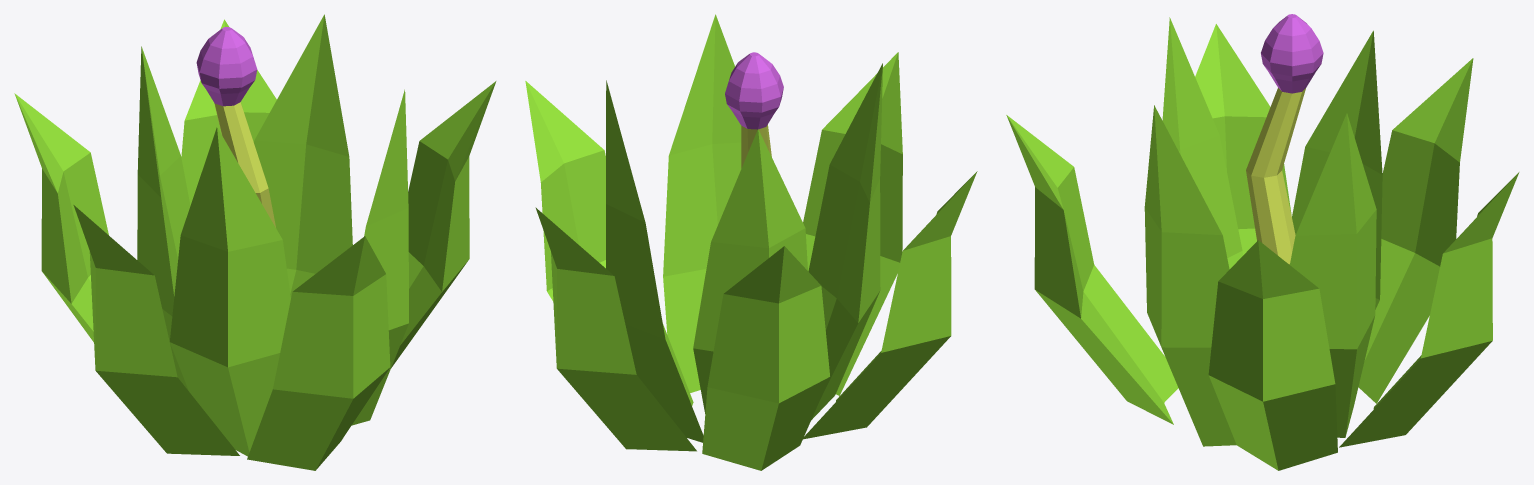
Rendered from plant_02.fbx.
3 views of the same model, side by side, from view 1: azimuth 30°, elevation 25°; view 2: azimuth 150°, elevation 25°; view 3: azimuth 270°, elevation 25° (orthographic). The views are drawn at different scales.
Parts seen in each view (by area): view 1: Sphère.014; view 2: Sphère.014; view 3: Sphère.014.
Part boxes in pixels (x1,y1,x2,y2): Sphère.014: (14,14,496,470); Sphère.014: (525,14,977,470); Sphère.014: (1006,14,1519,470).
Size of the model in its own units: 299 by 246 by 300.
